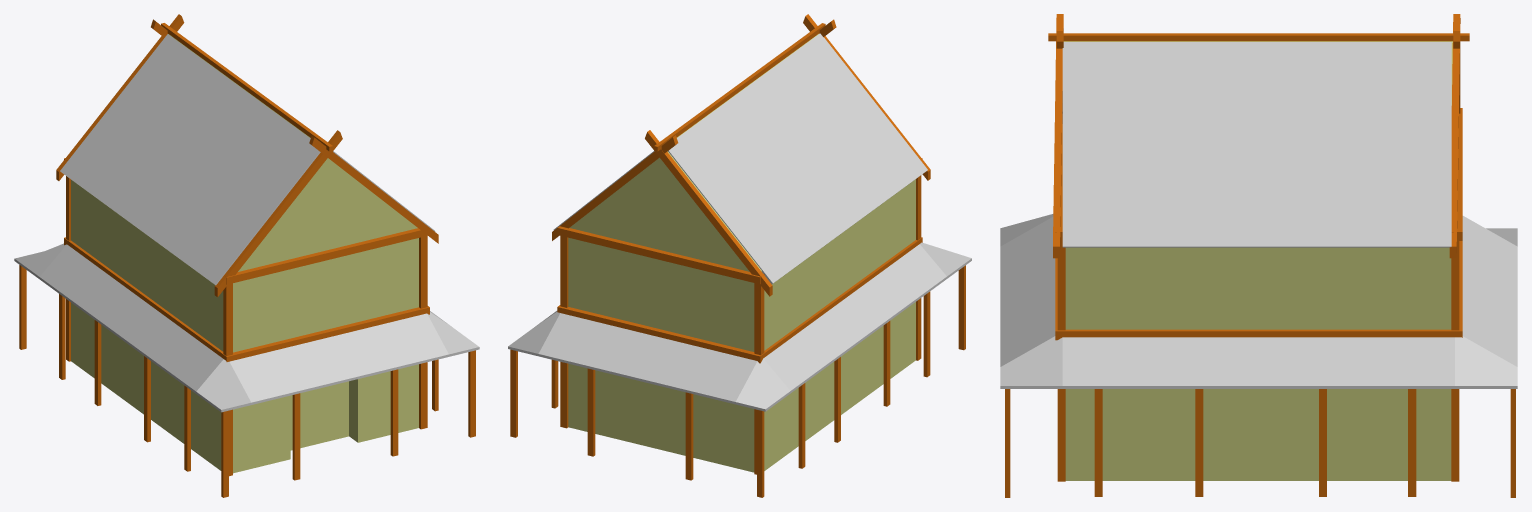
File: house02.fbx
The picture shows the model from 3 angles, left to right: view 1: azimuth 30°, elevation 25°; view 2: azimuth 150°, elevation 25°; view 3: azimuth 270°, elevation 25°; orthographic projection. The views are drawn at different scales.
Visible parts, largest first — view 1: Cube, Cube.029, Cube.002, Cube.030, Cube.001, Cube.006, Cube.007, Cube.005, Cube.010, Cube.009, Cube.004, Cube.023 (+9 smaller); view 2: Cube, Cube.029, Cube.002, Cube.030, Cube.001, Cube.004, Cube.007, Cube.011, Cube.003, Cube.008, Cube.025, Cube.024 (+9 smaller); view 3: Cube.028, Cube, Cube.002, Cube.030, Cube.007, Cube.005, Cube.003, Cube.010, Cube.011, Cube.015, Cube.014, Cube.012 (+4 smaller).
Boxes of the visible parts, left/top/right/bottom form: Cube: left=71, top=34, right=418, bottom=473; Cube.029: left=60, top=34, right=320, bottom=285; Cube.002: left=14, top=243, right=479, bottom=412; Cube.030: left=64, top=237, right=429, bottom=361; Cube.001: left=64, top=158, right=427, bottom=284; Cube.006: left=214, top=130, right=342, bottom=297; Cube.007: left=161, top=23, right=332, bottom=151; Cube.005: left=309, top=135, right=438, bottom=243; Cube.010: left=419, top=236, right=427, bottom=429; Cube.009: left=223, top=283, right=232, bottom=476; Cube.004: left=56, top=14, right=184, bottom=180; Cube.023: left=390, top=369, right=398, bottom=456; Cube: left=568, top=34, right=915, bottom=472; Cube.029: left=668, top=33, right=927, bottom=284; Cube.002: left=508, top=242, right=971, bottom=411; Cube.030: left=557, top=237, right=922, bottom=363; Cube.001: left=557, top=158, right=922, bottom=284; Cube.004: left=645, top=130, right=772, bottom=296; Cube.007: left=654, top=23, right=825, bottom=151; Cube.011: left=560, top=235, right=568, bottom=428; Cube.003: left=552, top=135, right=678, bottom=240; Cube.008: left=754, top=283, right=764, bottom=474; Cube.025: left=685, top=392, right=693, bottom=480; Cube.024: left=587, top=368, right=595, bottom=456; Cube.028: left=1062, top=42, right=1451, bottom=247; Cube: left=1063, top=41, right=1452, bottom=480; Cube.002: left=1000, top=214, right=1517, bottom=388; Cube.030: left=1055, top=241, right=1462, bottom=340; Cube.007: left=1048, top=33, right=1469, bottom=41; Cube.005: left=1053, top=14, right=1063, bottom=258; Cube.003: left=1449, top=14, right=1460, bottom=258; Cube.010: left=1057, top=241, right=1065, bottom=481; Cube.011: left=1451, top=241, right=1459, bottom=481; Cube.015: left=1094, top=389, right=1102, bottom=496; Cube.014: left=1195, top=389, right=1203, bottom=496; Cube.012: left=1408, top=389, right=1416, bottom=496.
Bounding box in the file's own units: 767 × 904 × 1065.
